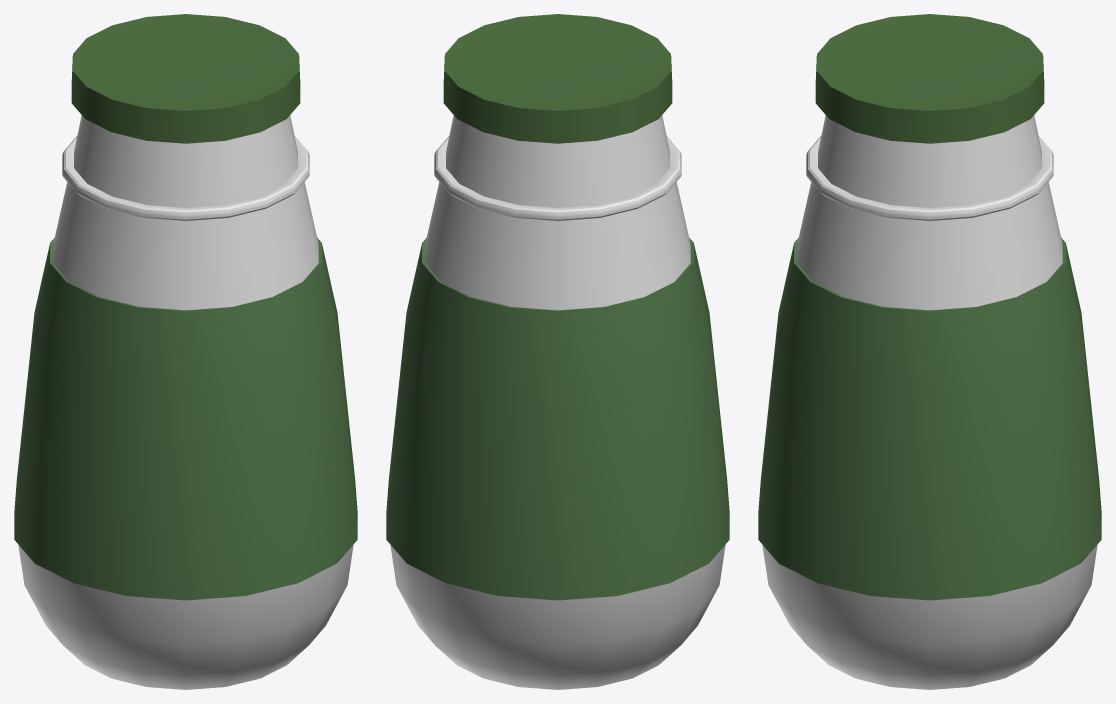
File: Sauce_tomate_2.fbx
The picture shows the model from 3 angles, left to right: view 1: azimuth 30°, elevation 25°; view 2: azimuth 150°, elevation 25°; view 3: azimuth 270°, elevation 25°; orthographic projection.
Visible parts, largest first — view 1: etiquette, bouteille, Bouchon; view 2: etiquette, bouteille, Bouchon; view 3: etiquette, bouteille, Bouchon.
Part boxes in pixels (x1=…): etiquette: x1=14, y1=238, x2=357, y2=600; bouteille: x1=18, y1=115, x2=353, y2=689; Bouchon: x1=71, y1=14, x2=300, y2=143; etiquette: x1=386, y1=238, x2=729, y2=600; bouteille: x1=390, y1=115, x2=725, y2=689; Bouchon: x1=443, y1=14, x2=672, y2=143; etiquette: x1=758, y1=238, x2=1101, y2=600; bouteille: x1=762, y1=115, x2=1097, y2=689; Bouchon: x1=815, y1=14, x2=1044, y2=143.
Bounding box in the file's own units: 4.34 × 8.05 × 4.27.
